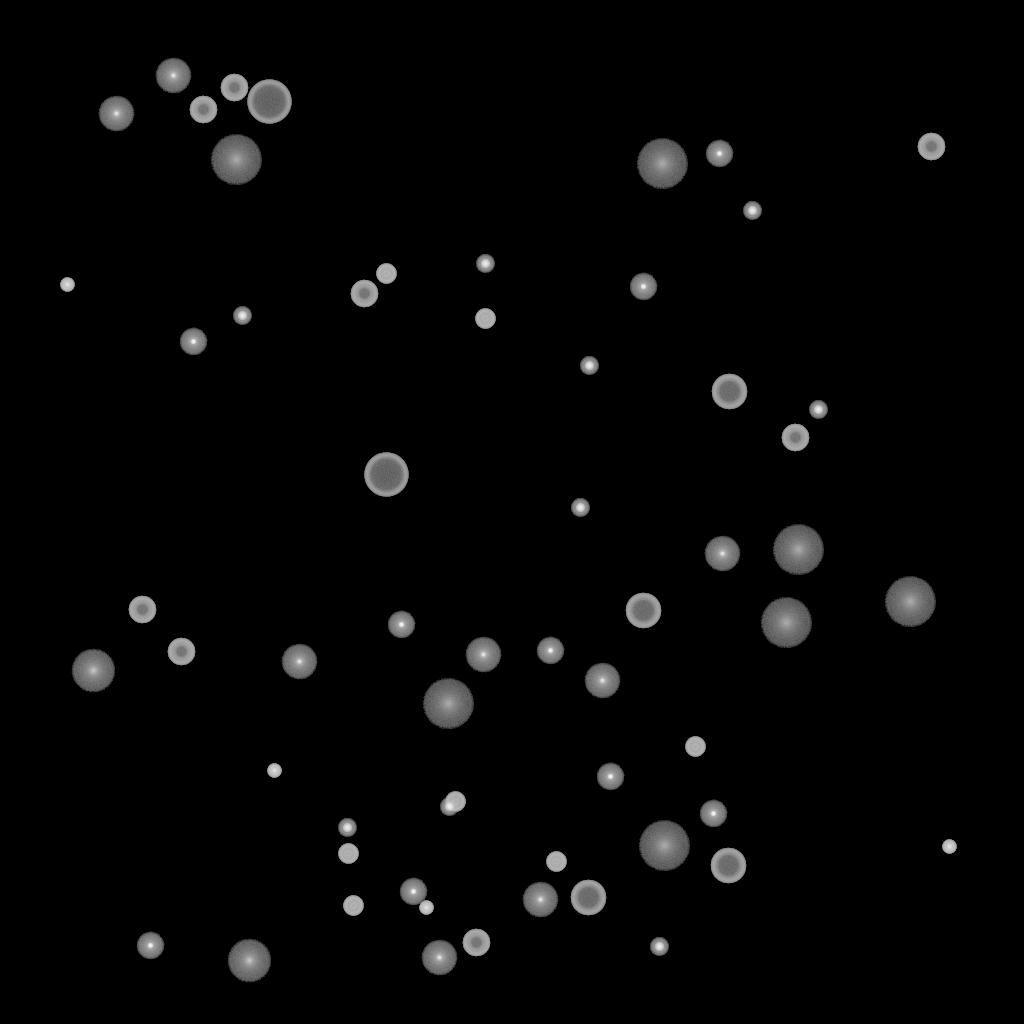depth:-10: (399, 878, 427, 906), (705, 140, 733, 168), (596, 763, 624, 791), (136, 932, 164, 960), (387, 611, 415, 639), (699, 800, 727, 828), (179, 328, 207, 356), (629, 273, 657, 301), (536, 637, 564, 665)
depth:-20: (580, 357, 598, 375), (650, 938, 668, 956), (233, 307, 251, 325), (338, 819, 356, 837), (440, 798, 458, 816), (571, 499, 589, 517), (476, 255, 494, 273), (809, 401, 827, 419), (743, 202, 761, 220)
depth:-30: (267, 764, 281, 778), (419, 901, 433, 915), (60, 278, 74, 292), (942, 840, 956, 854)
depth:-40: (475, 309, 495, 329), (343, 896, 363, 916), (685, 737, 705, 757), (338, 844, 358, 864), (445, 792, 465, 812), (376, 264, 396, 284), (546, 852, 566, 872)
depth:-50: (189, 96, 217, 124), (350, 280, 378, 308), (462, 929, 490, 957), (128, 596, 156, 624), (781, 424, 809, 452), (917, 133, 945, 161), (220, 74, 248, 102), (167, 638, 195, 666)
depth:-60: (570, 880, 606, 916), (710, 848, 746, 884), (711, 374, 747, 410), (625, 593, 661, 629)
depth:-70: (247, 80, 291, 124), (364, 453, 408, 497)
depth:0: (704, 536, 740, 572), (421, 940, 457, 976), (522, 882, 558, 918), (155, 58, 191, 94), (584, 663, 620, 699), (98, 96, 134, 132), (465, 637, 501, 673), (281, 644, 317, 680)
depth:10: (71, 649, 115, 693), (227, 939, 271, 983)
depth:20: (422, 679, 474, 729), (760, 598, 812, 648), (884, 577, 936, 627), (772, 525, 824, 575), (636, 139, 688, 189), (210, 135, 262, 185), (638, 821, 690, 871)
